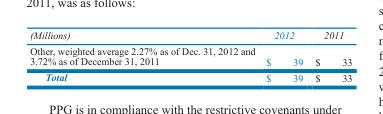table: (29, 29, 351, 83)
table column: (29, 29, 259, 83), (259, 29, 308, 83), (308, 29, 351, 83)
table column header: (29, 29, 351, 42)
table row: (29, 42, 351, 69), (29, 69, 351, 83), (29, 29, 351, 42)
